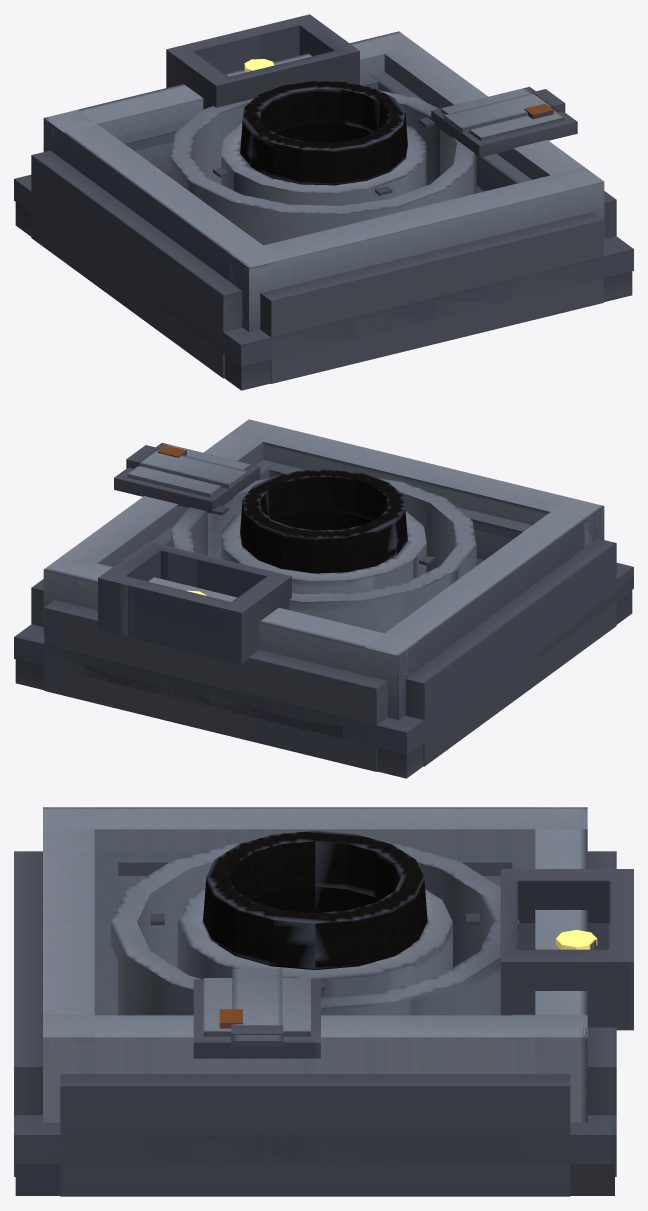
Rendered from massline_core_lod1.glb.
3 views of the same model, one above another, from view 1: azimuth 30°, elevation 25°; view 2: azimuth 150°, elevation 25°; view 3: azimuth 270°, elevation 25° (orthographic). The views are drawn at different scales.
Visible parts, largest first — view 1: LOD1_massline_core, LOD1_massline_core_lamp; view 2: LOD1_massline_core, LOD1_massline_core_lamp; view 3: LOD1_massline_core, LOD1_massline_core_lamp.
Part boxes in pixels (left/top/right/bottom): LOD1_massline_core: left=14, top=31, right=633, bottom=390; LOD1_massline_core_lamp: left=166, top=14, right=359, bottom=109; LOD1_massline_core: left=14, top=419, right=633, bottom=778; LOD1_massline_core_lamp: left=98, top=541, right=291, bottom=664; LOD1_massline_core: left=14, top=807, right=616, bottom=1196; LOD1_massline_core_lamp: left=500, top=869, right=633, bottom=1030.
Bounding box in the file's own units: 2.15 × 0.735 × 2.14.
Materials: 1 (1 with a texture image).
